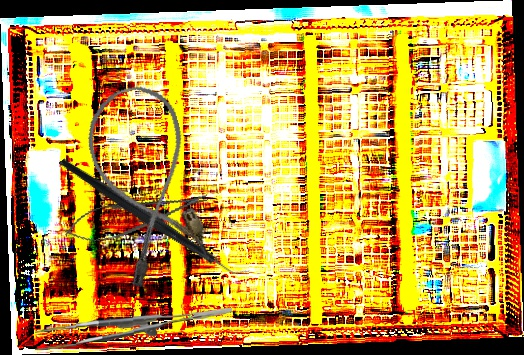Cannula: (76, 76, 217, 291)
Chopper: (58, 109, 251, 324)
Needle Holder: (60, 180, 213, 252)
Tissue Forceps: (34, 307, 233, 351)
